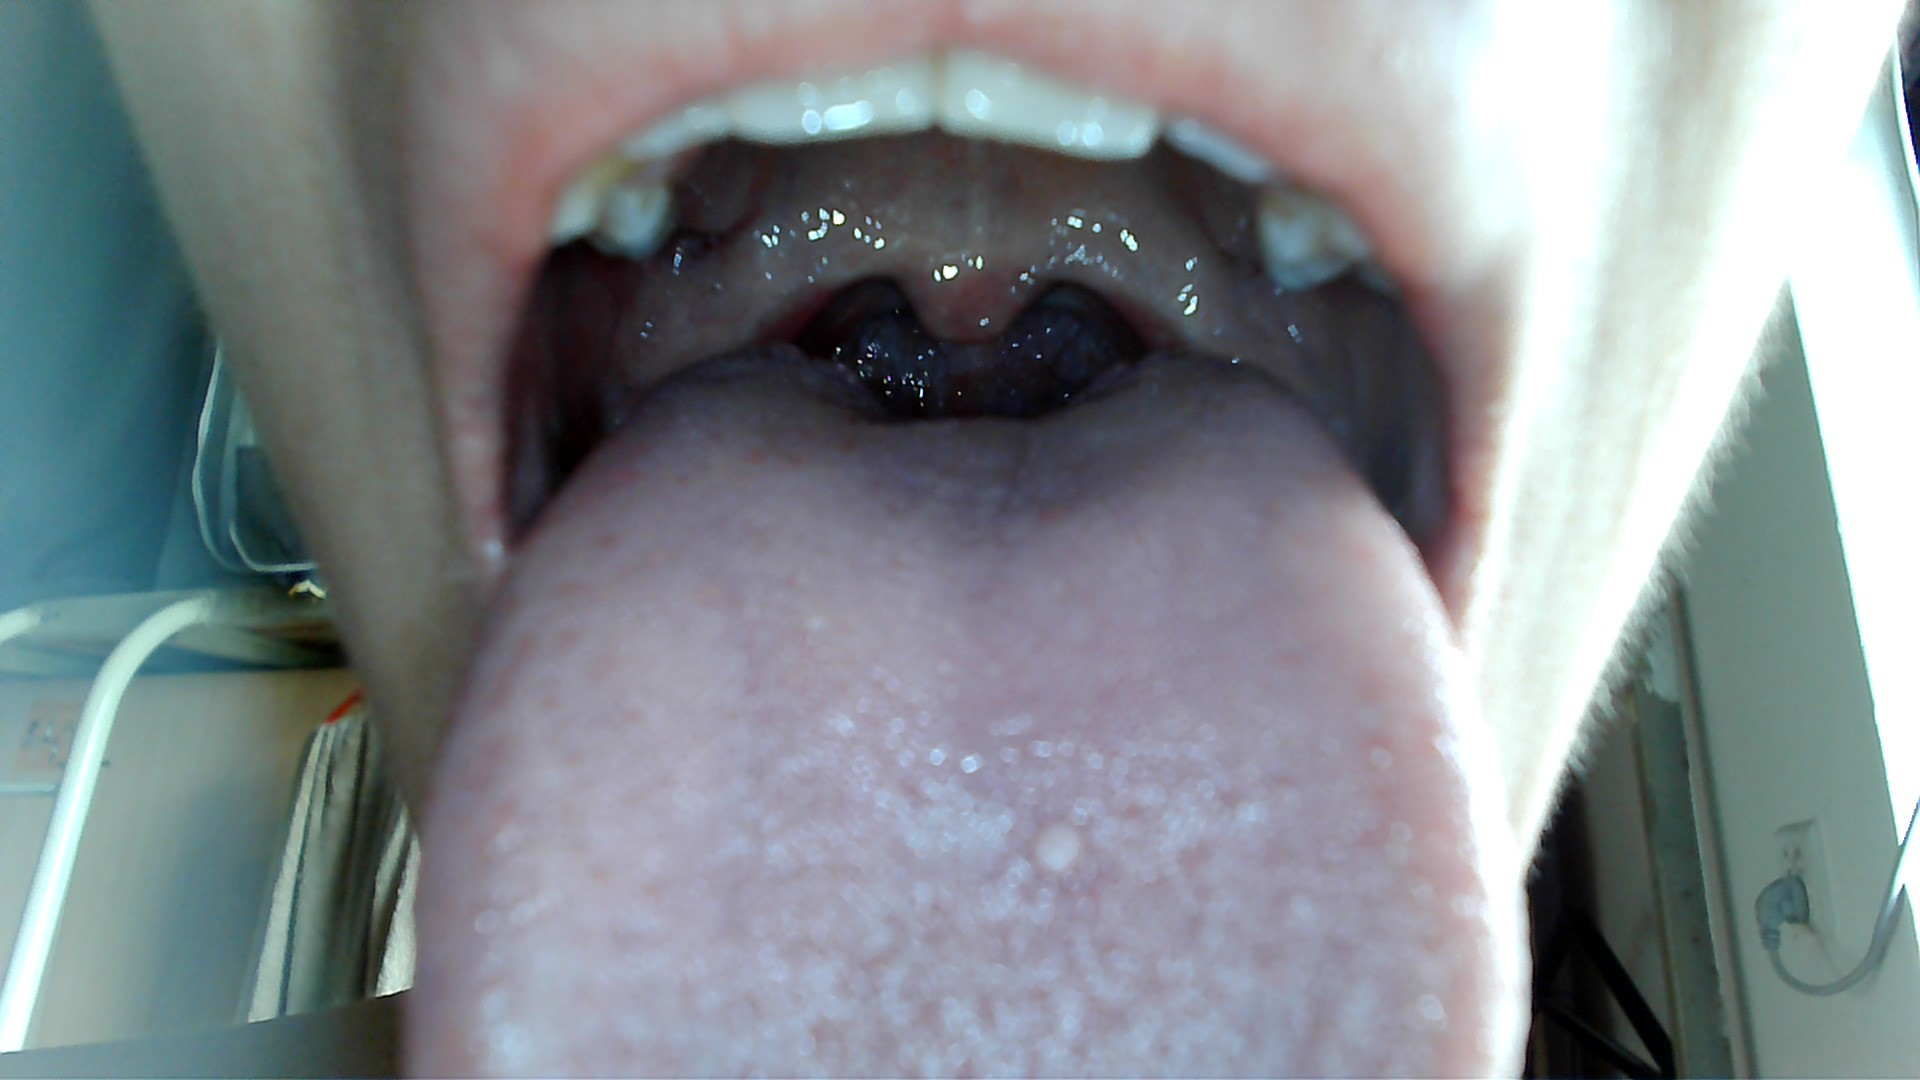throat: (1087, 260, 1218, 368), (731, 248, 862, 348)
